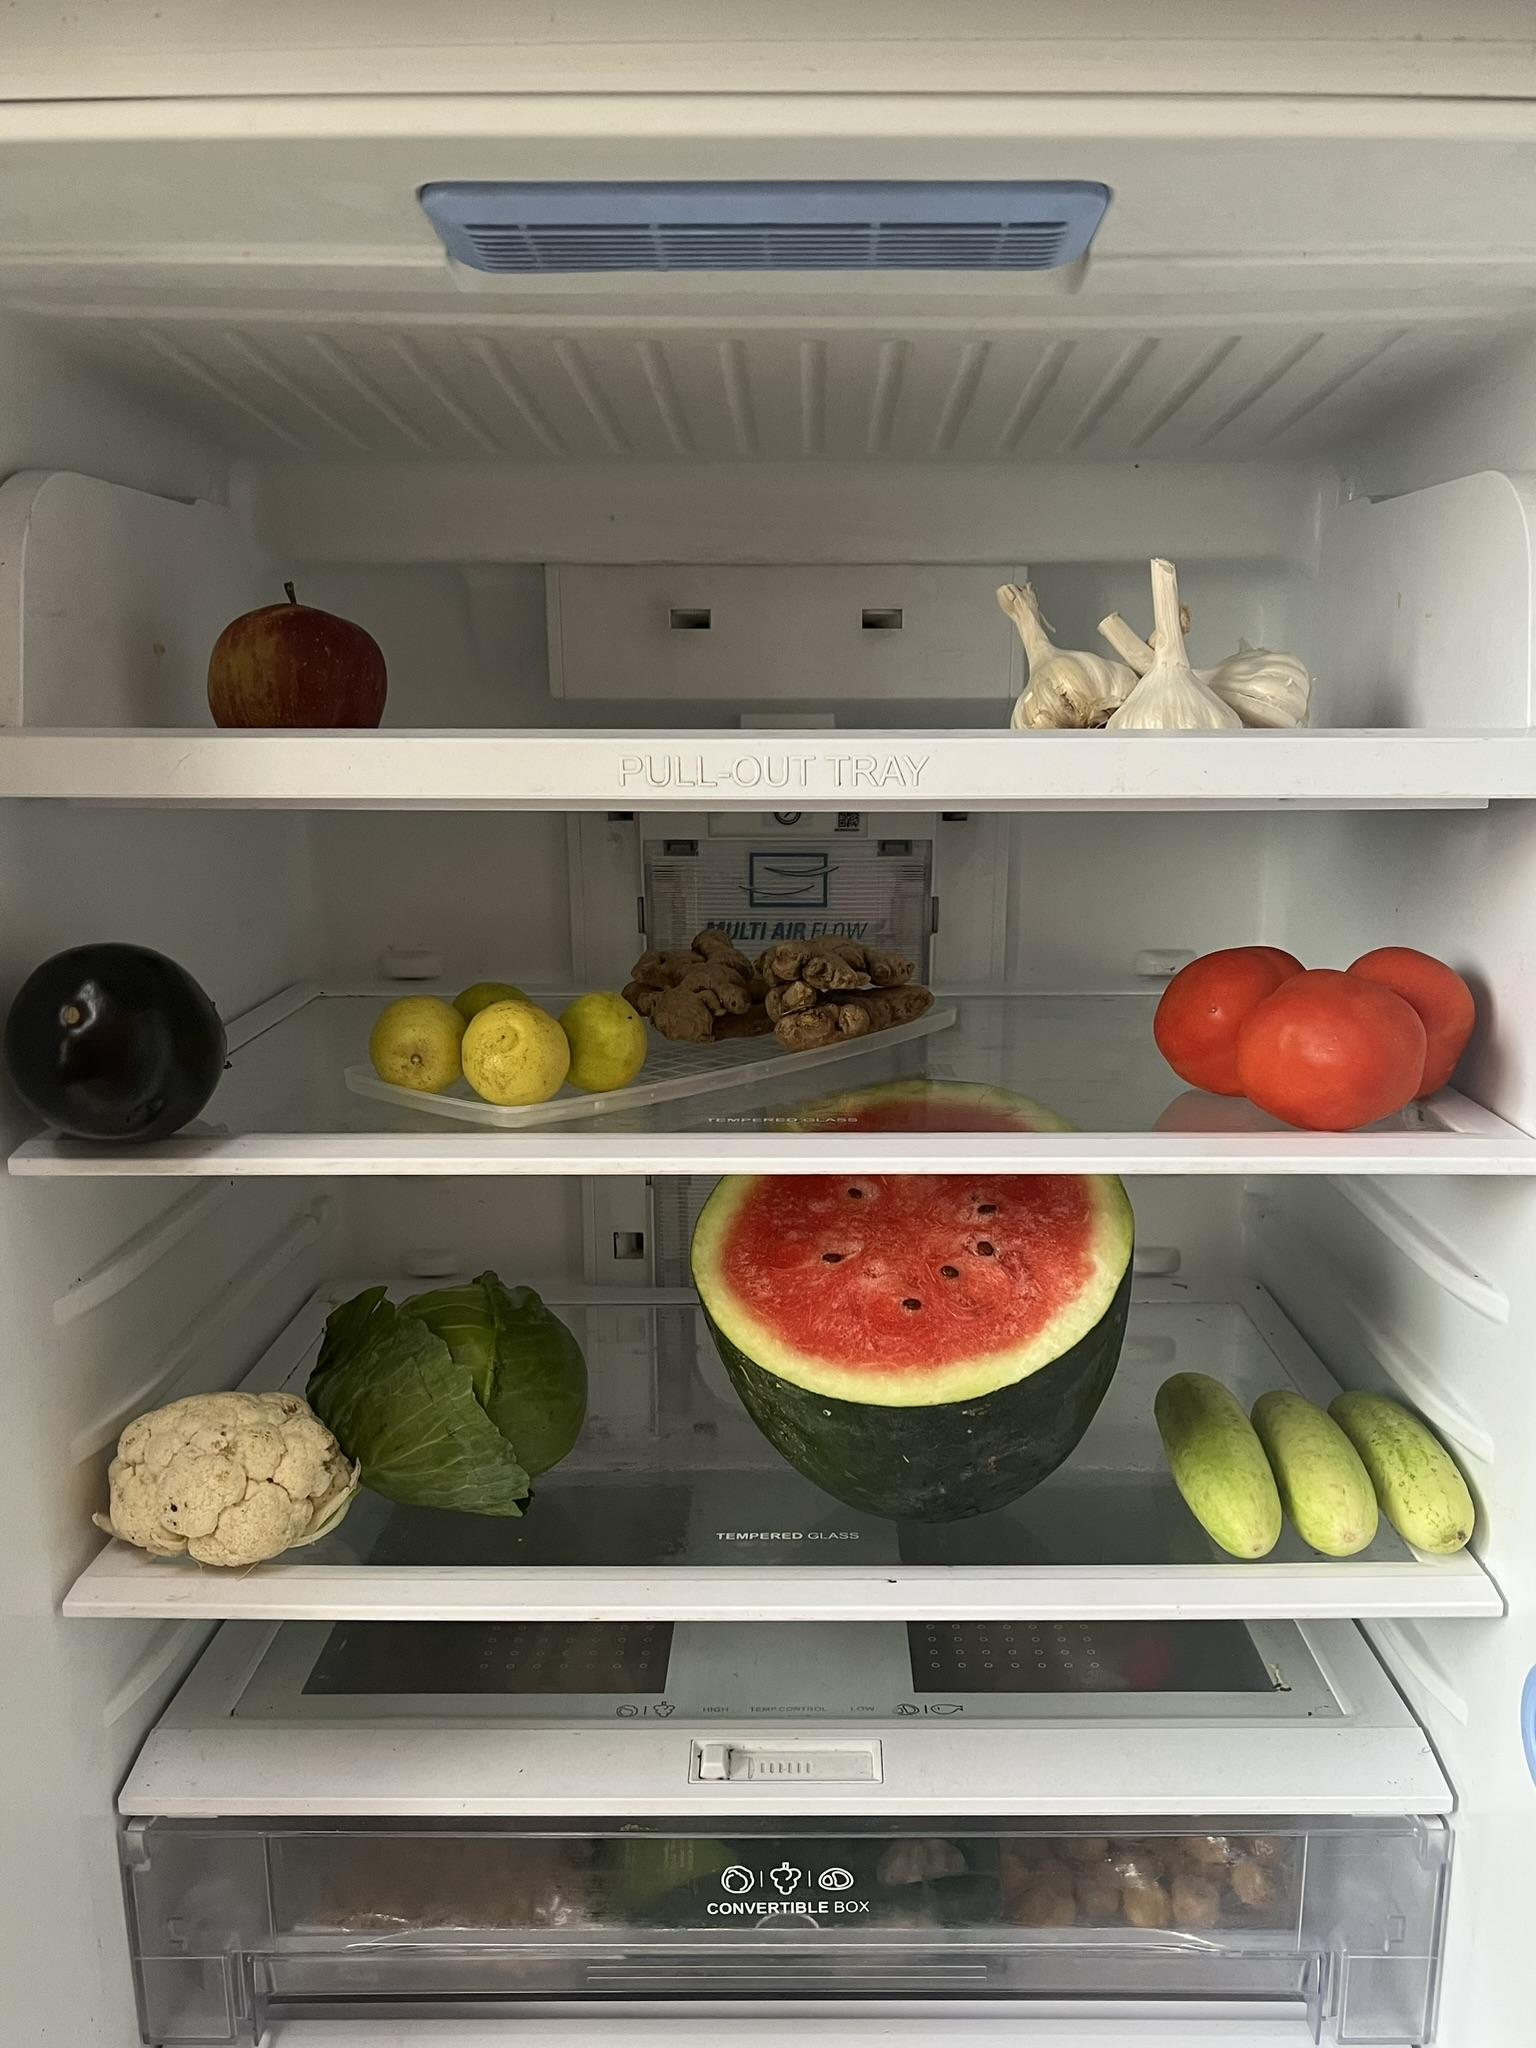apple: (207, 574, 400, 734)
bringal: (6, 930, 237, 1150)
cabbage: (310, 1271, 594, 1517)
cauliflower: (97, 1384, 366, 1556)
cucumber: (1157, 1359, 1480, 1563)
garlic: (983, 556, 1326, 737)
ginger: (626, 930, 947, 1037)
lemon: (369, 974, 660, 1109)
tomato: (1154, 940, 1480, 1124)
watermelon: (703, 1080, 1141, 1524)
